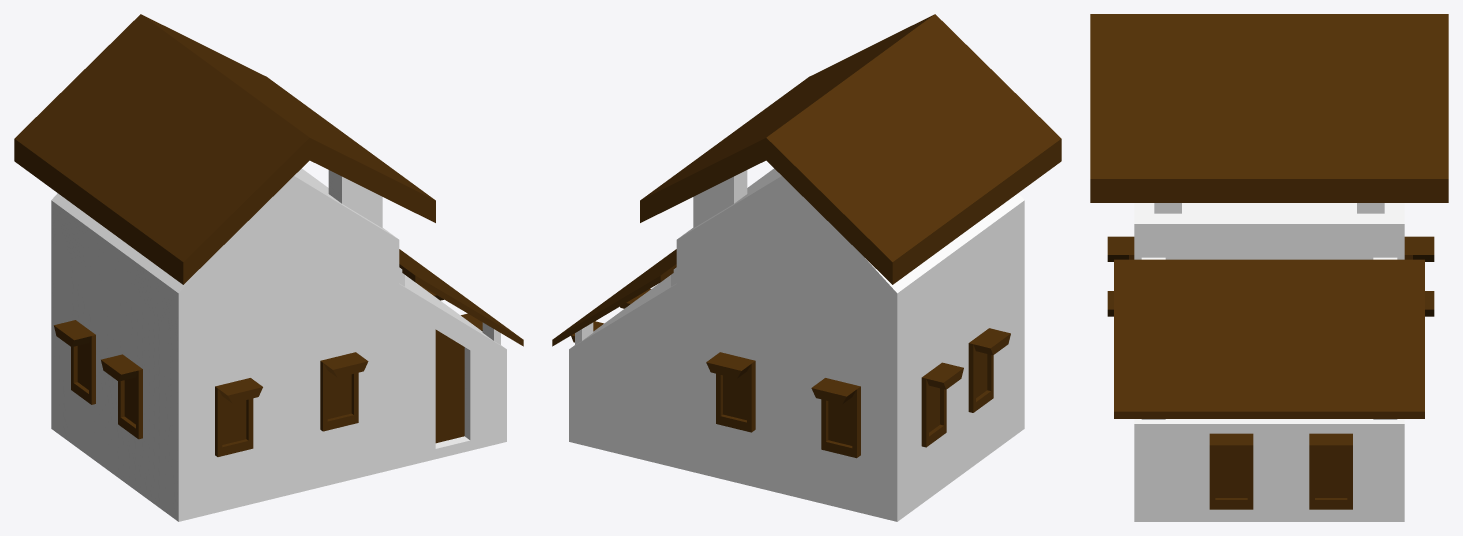
File: house2.glb
3 views of the same model, side by side, from view 1: azimuth 30°, elevation 25°; view 2: azimuth 150°, elevation 25°; view 3: azimuth 270°, elevation 25° (orthographic). The views are drawn at different scales.
Parts seen in each view (by area): view 1: house1; view 2: house1; view 3: house1.
Part boxes in pixels (<box>): house1: <box>14,14,523,521</box>; house1: <box>552,14,1061,521</box>; house1: <box>1090,14,1448,521</box>.
Bounding box in the file's own units: 8.45 × 8.07 × 6.63.
1 material, 1 textured.
